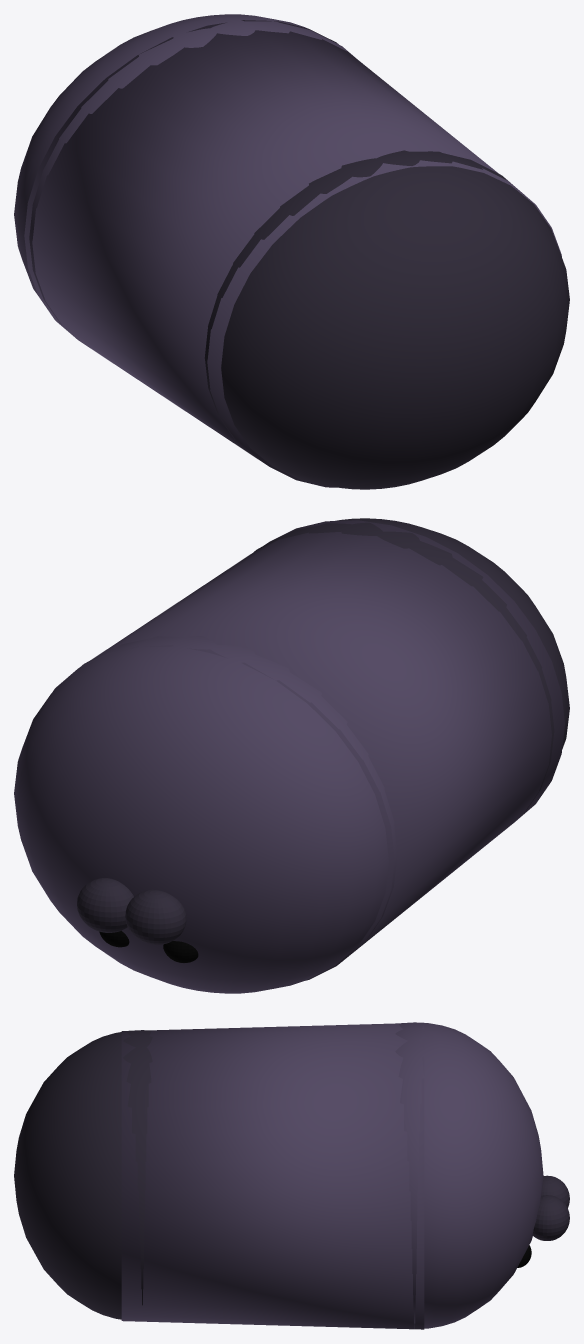
The model's file is seal.obj.
The picture shows the model from 3 angles, top to bottom: view 1: azimuth 30°, elevation 25°; view 2: azimuth 150°, elevation 25°; view 3: azimuth 270°, elevation 25°; orthographic projection. The views are drawn at different scales.
Parts seen in each view (by area): view 1: Sphere.005, Cylinder, Sphere; view 2: Sphere, Cylinder, Sphere.005, Sphere.001, Sphere.002, Sphere.004; view 3: Cylinder, Sphere, Sphere.005, Sphere.002, Sphere.001.
Boxes of the visible parts, x1=… form: Sphere.005: x1=204, y1=150, x2=569, y2=489; Cylinder: x1=24, y1=20, x2=561, y2=487; Sphere: x1=14, y1=14, x2=352, y2=342; Sphere: x1=14, y1=636, x2=397, y2=993; Cylinder: x1=53, y1=520, x2=564, y2=980; Sphere.005: x1=254, y1=518, x2=569, y2=813; Sphere.001: x1=125, y1=889, x2=186, y2=944; Sphere.002: x1=77, y1=878, x2=133, y2=932; Sphere.004: x1=163, y1=941, x2=198, y2=962; Cylinder: x1=121, y1=1022, x2=424, y2=1329; Sphere: x1=395, y1=1022, x2=543, y2=1328; Sphere.005: x1=14, y1=1030, x2=152, y2=1319; Sphere.002: x1=532, y1=1195, x2=569, y2=1240; Sphere.001: x1=541, y1=1175, x2=569, y2=1207.
Bounding box in the file's own units: 2 × 1.73 × 3.21.
